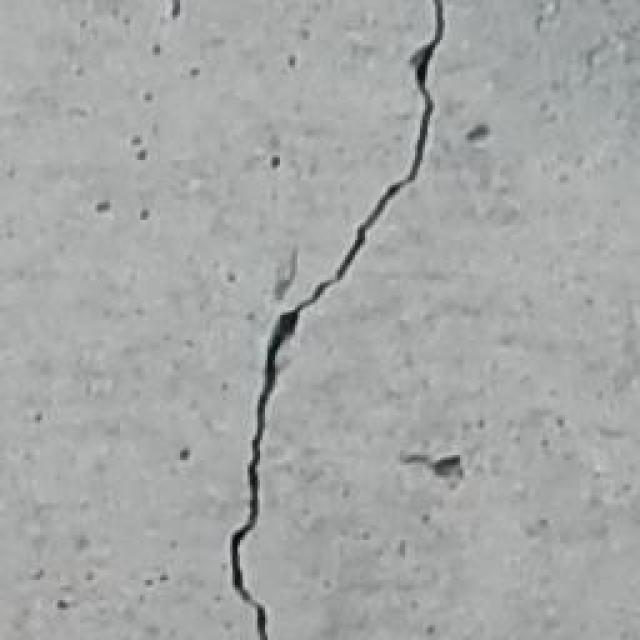concrete-crack: (231, 0, 444, 638)
